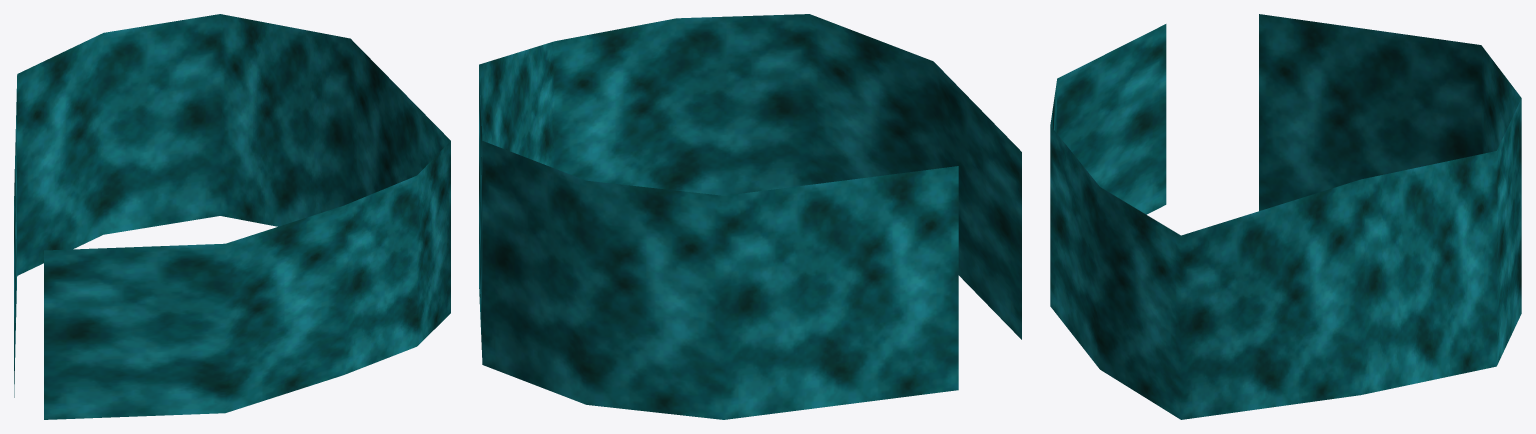
File: MIRKWOOD_FOGI.fbx
3 renders of one model, left to right at view 1: azimuth 30°, elevation 25°; view 2: azimuth 150°, elevation 25°; view 3: azimuth 270°, elevation 25°, orthographic. The views are drawn at different scales.
Visible parts, largest first — view 1: MIRKWOOD_FOGI; view 2: MIRKWOOD_FOGI; view 3: MIRKWOOD_FOGI.
Boxes of the visible parts, x1,y1,x2,y2 form: MIRKWOOD_FOGI: [14, 14, 450, 419]; MIRKWOOD_FOGI: [479, 14, 1021, 419]; MIRKWOOD_FOGI: [1050, 14, 1521, 419].
Bounding box in the file's own units: 177874 × 96252 × 164201.
1 material, 1 textured.
